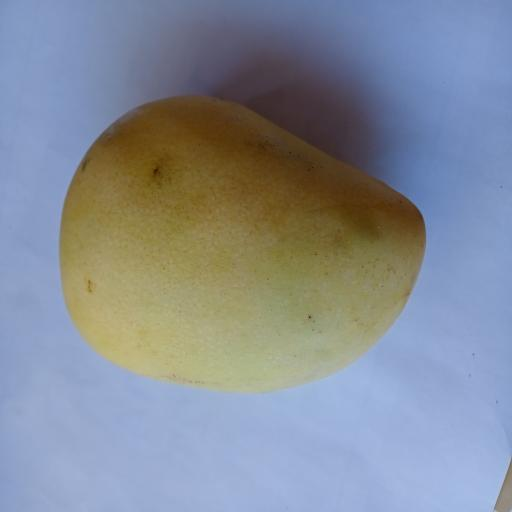mango-ripe: (41, 89, 445, 403)
